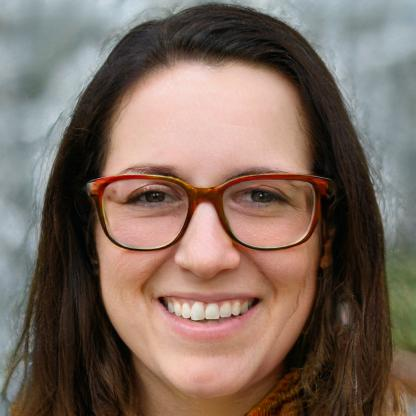glasses: (83, 170, 324, 258)
